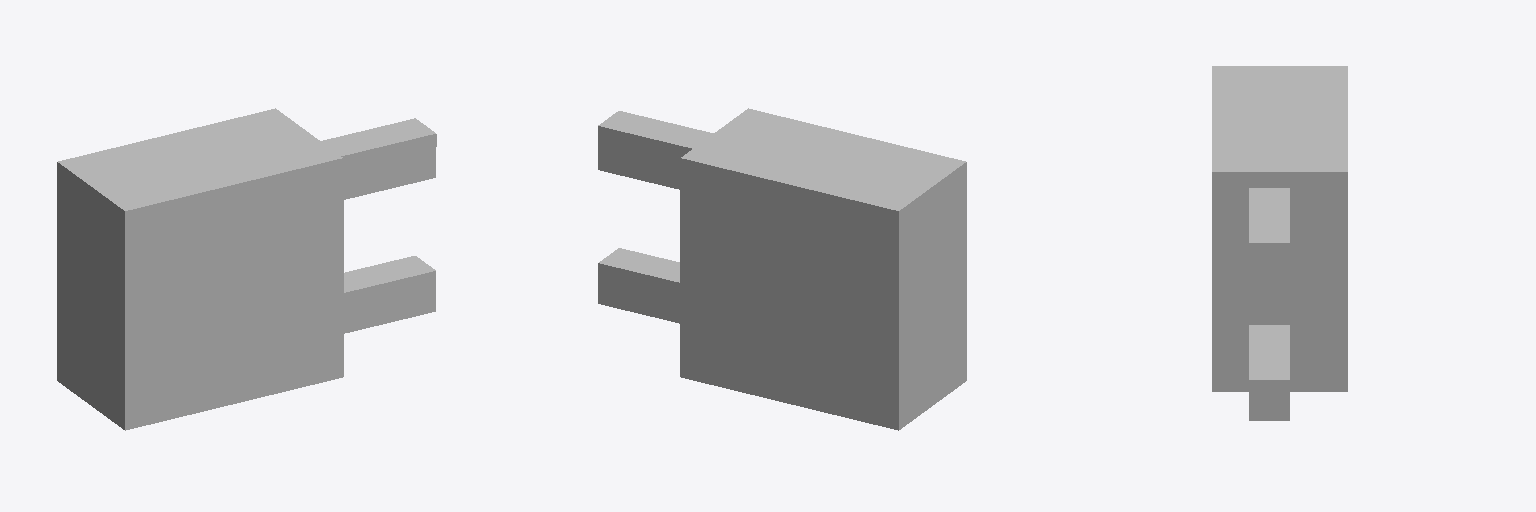
Rendered from turretSimple.obj.
3 views of the same model, side by side, from view 1: azimuth 30°, elevation 25°; view 2: azimuth 150°, elevation 25°; view 3: azimuth 270°, elevation 25° (orthographic).
Parts seen in each view (by area): view 1: Object.1; view 2: Object.1; view 3: Object.1.
Part boxes in pixels (left/top/right/bottom): Object.1: left=57, top=108, right=436, bottom=430; Object.1: left=598, top=108, right=966, bottom=430; Object.1: left=1212, top=66, right=1347, bottom=420.
Bounding box in the file's own units: 38.2 × 24.29 × 13.6.